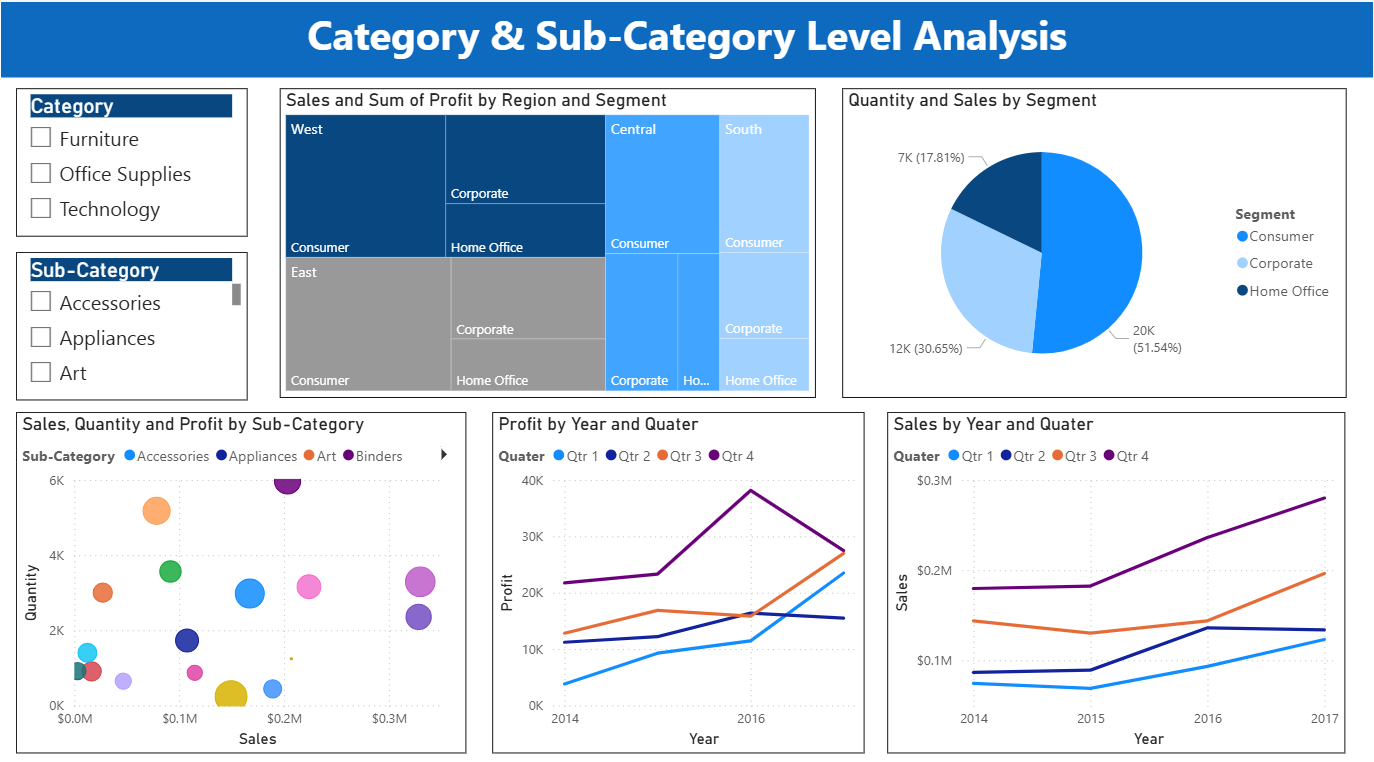

The dashboard page shown, as its layout file describes it:
{"tool":"powerbi","page":{"name":"Category & Sub-Category","canvas":[1280,720],"ordinal":2},"visuals":[{"type":"textbox","box":[0,0,1280,70],"z":0},{"type":"slicer","fields":{"Values":["Sample - Superstore.Category"]},"box":[14.3,80,215.7,138.6],"z":1000},{"type":"slicer","fields":{"Values":["Sample - Superstore.Sub-Category"]},"box":[14.3,232.9,215.7,138.6],"z":2000},{"type":"treemap","fields":{"Group":["Sample - Superstore.Region"],"Details":["Sample - Superstore.Segment"],"Values":["Sum(Sample - Superstore.Sales)"]},"box":[260,80,500,288.6],"z":3000},{"type":"pieChart","fields":{"Category":["Sample - Superstore.Segment"],"Y":["Sum(Sample - Superstore.Quantity)"]},"box":[784.3,80,470,288.6],"z":4000},{"type":"scatterChart","fields":{"X":["Sum(Sample - Superstore.Sales)"],"Y":["Sum(Sample - Superstore.Quantity)"],"Series":["Sample - Superstore.Sub-Category"],"Size":["Sum(Sample - Superstore.Profit)"]},"box":[14.3,382.9,420,318.6],"z":5000},{"type":"lineChart","fields":{"Y":["Sum(Sample - Superstore.Profit)"],"Category":["Sample - Superstore.Year"],"Series":["Sample - Superstore.Quater"]},"box":[458.6,382.9,347.1,318.6],"z":6000},{"type":"lineChart","fields":{"Category":["Sample - Superstore.Year"],"Series":["Sample - Superstore.Quater"],"Y":["Sum(Sample - Superstore.Sales)"]},"box":[827.1,382.9,427.1,318.6],"z":7000}]}

Visuals, with their boxes in screenshot pixels (x1, y1, x2, y2), scaled from the page's 1280x720 canvas onto the 1374x762 screenshot:
textbox: [0, 0, 1373, 74]
slicer - Sample - Superstore.Category: [15, 85, 247, 231]
slicer - Sample - Superstore.Sub-Category: [15, 246, 247, 393]
treemap - Sample - Superstore.Region x Sample - Superstore.Segment: [279, 85, 816, 390]
pieChart - Sample - Superstore.Segment x Sum(Sample - Superstore.Quantity): [842, 85, 1346, 390]
scatterChart - Sum(Sample - Superstore.Sales) x Sum(Sample - Superstore.Quantity): [15, 405, 466, 742]
lineChart - Sum(Sample - Superstore.Profit) x Sample - Superstore.Year: [492, 405, 865, 742]
lineChart - Sample - Superstore.Year x Sample - Superstore.Quater: [888, 405, 1346, 742]
